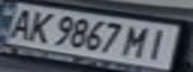6: (84, 18, 109, 53)
7: (100, 20, 127, 55)
8: (66, 16, 90, 51)
9: (48, 12, 75, 47)
A: (0, 6, 39, 40)
I: (139, 26, 178, 61)
K: (21, 9, 57, 44)
M: (121, 22, 157, 60)
